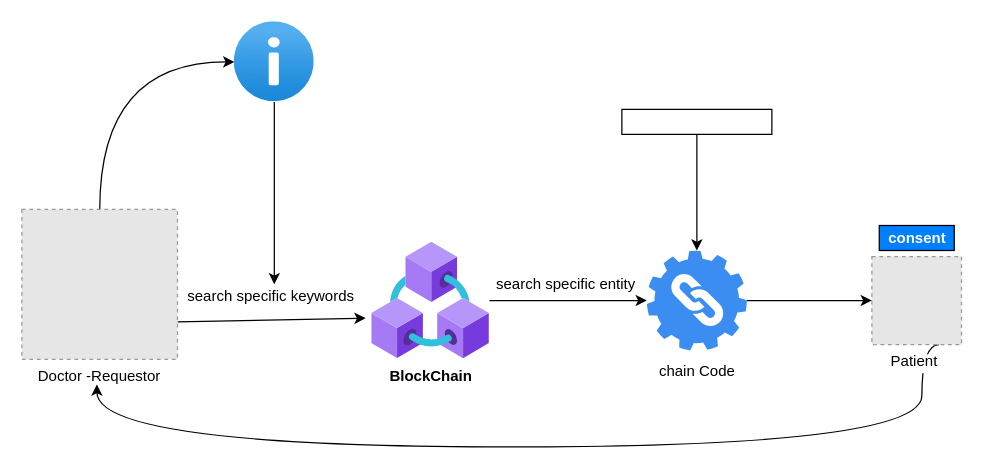
This 984x469 diagram has some shape labels left out. Grey dashed boxes stand in for pictures. Here are the shapes that lost their labels. From the top down, the box of each, then its label:
(234, 21, 314, 101): Information
(621, 108, 772, 134): It Is series of Block
